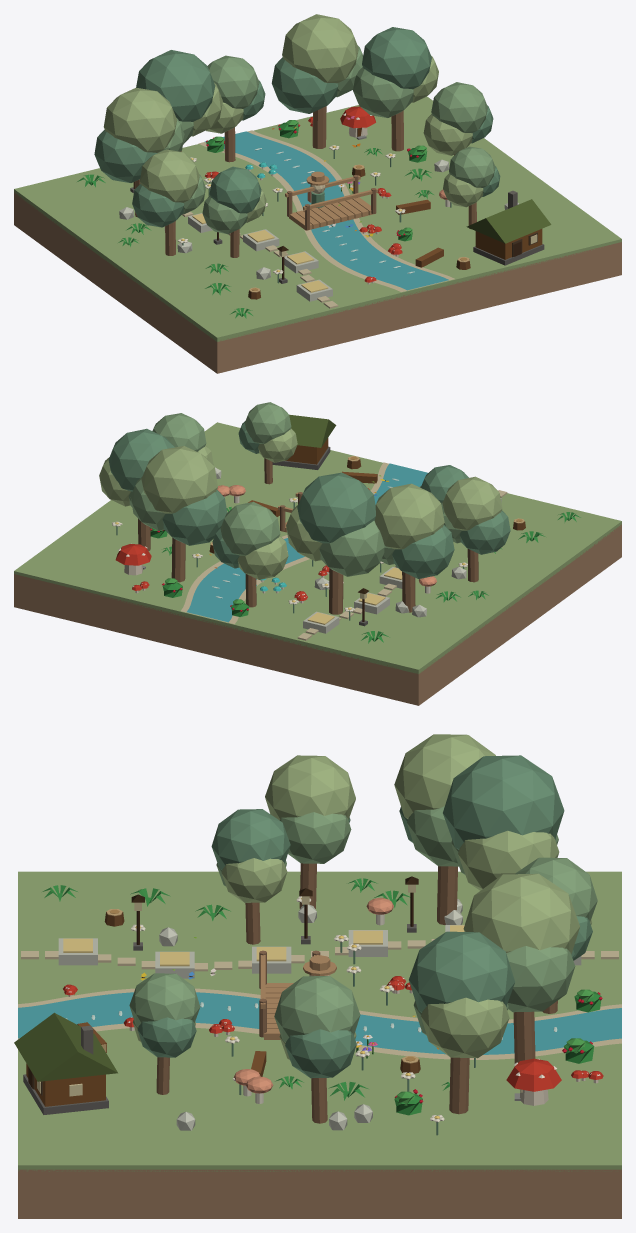
File: forest-v1.glb
3 renders of one model, top to bottom at view 1: azimuth 30°, elevation 25°; view 2: azimuth 150°, elevation 25°; view 3: azimuth 270°, elevation 25°, orthographic. The views are drawn at different scales.
Bounding box in the file's own units: 11.5 × 4.65 × 10.06.
